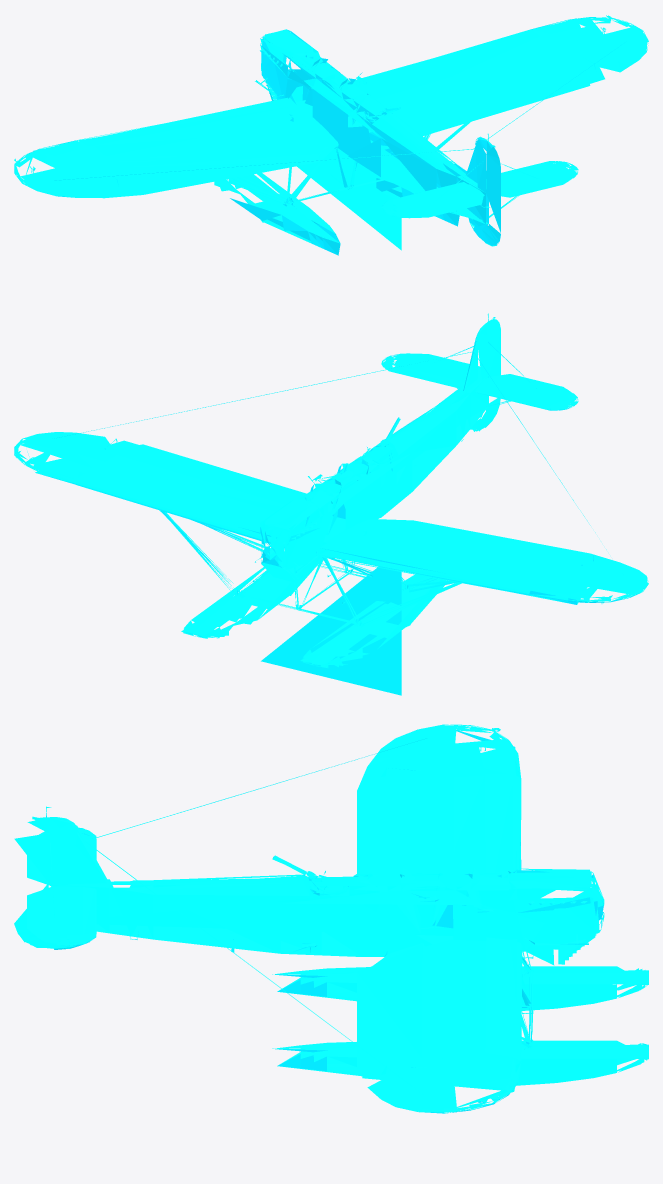
The model's file is PGAS005.glb.
3 views of the same model, one above another, from view 1: azimuth 30°, elevation 25°; view 2: azimuth 150°, elevation 25°; view 3: azimuth 270°, elevation 25° (orthographic). The views are drawn at different scales.
Parts seen in each view (by area): view 1: misc; view 2: misc; view 3: misc.
Boxes of the visible parts, x1,y1,x2,y2 form: misc: (14, 15, 648, 255); misc: (14, 313, 648, 695); misc: (14, 724, 648, 1113).
Size of the model in its own units: 1.12 by 0.4288 by 0.7735.
